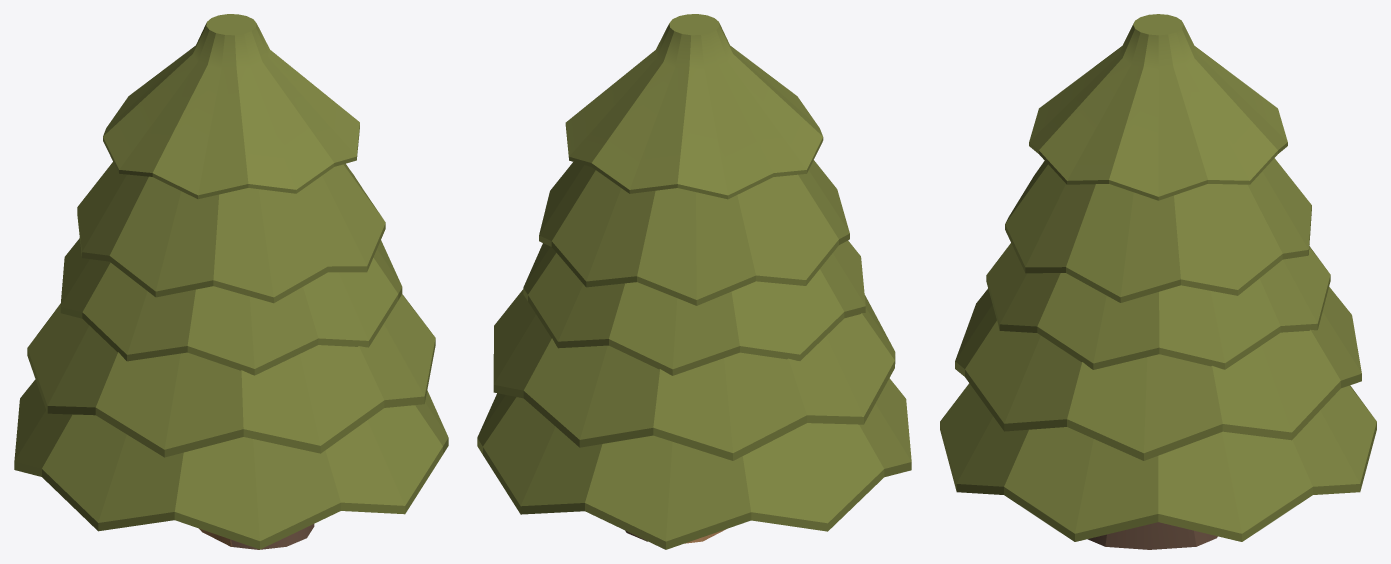
Rendered from FBX_TreeB_02.fbx.
3 renders of one model, left to right at view 1: azimuth 30°, elevation 25°; view 2: azimuth 150°, elevation 25°; view 3: azimuth 270°, elevation 25°, orthographic.
Parts seen in each view (by area): view 1: pCylinder33; view 2: pCylinder33; view 3: pCylinder33.
Part boxes in pixels (bbox=[...]): pCylinder33: bbox=[14, 14, 448, 549]; pCylinder33: bbox=[477, 14, 911, 549]; pCylinder33: bbox=[940, 14, 1376, 549].
Size of the model in its own units: 97.38 by 122 by 97.38.
